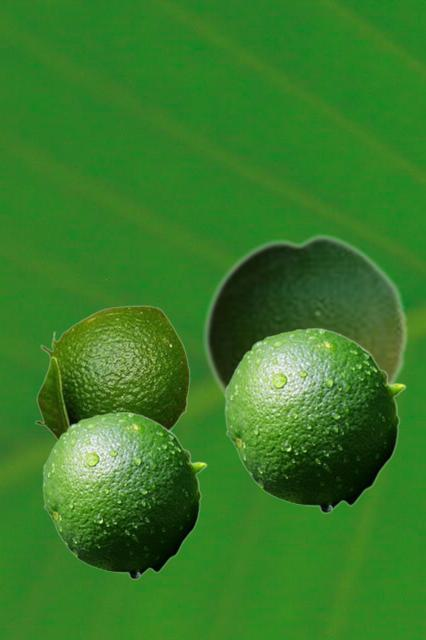dalandan: (202, 231, 408, 398), (224, 327, 405, 513), (42, 411, 206, 579), (34, 305, 189, 439)
